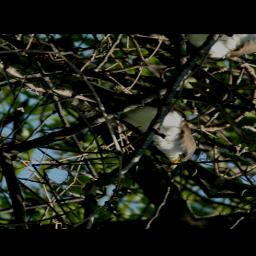Cuckoo: (27, 58, 216, 177)
